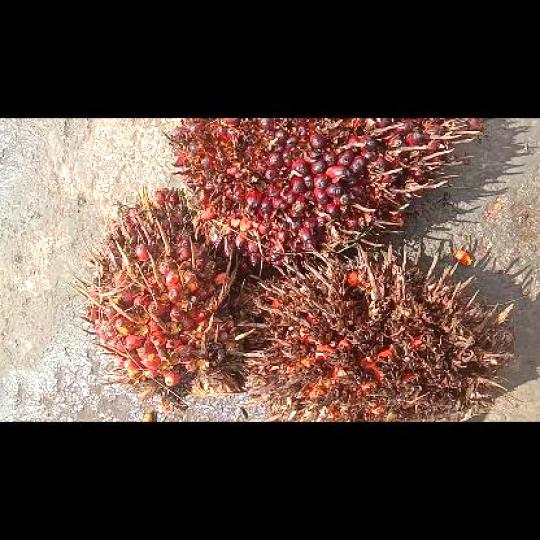masak: (163, 117, 481, 267), (66, 186, 274, 406)
terlalu masak: (237, 244, 516, 421)
